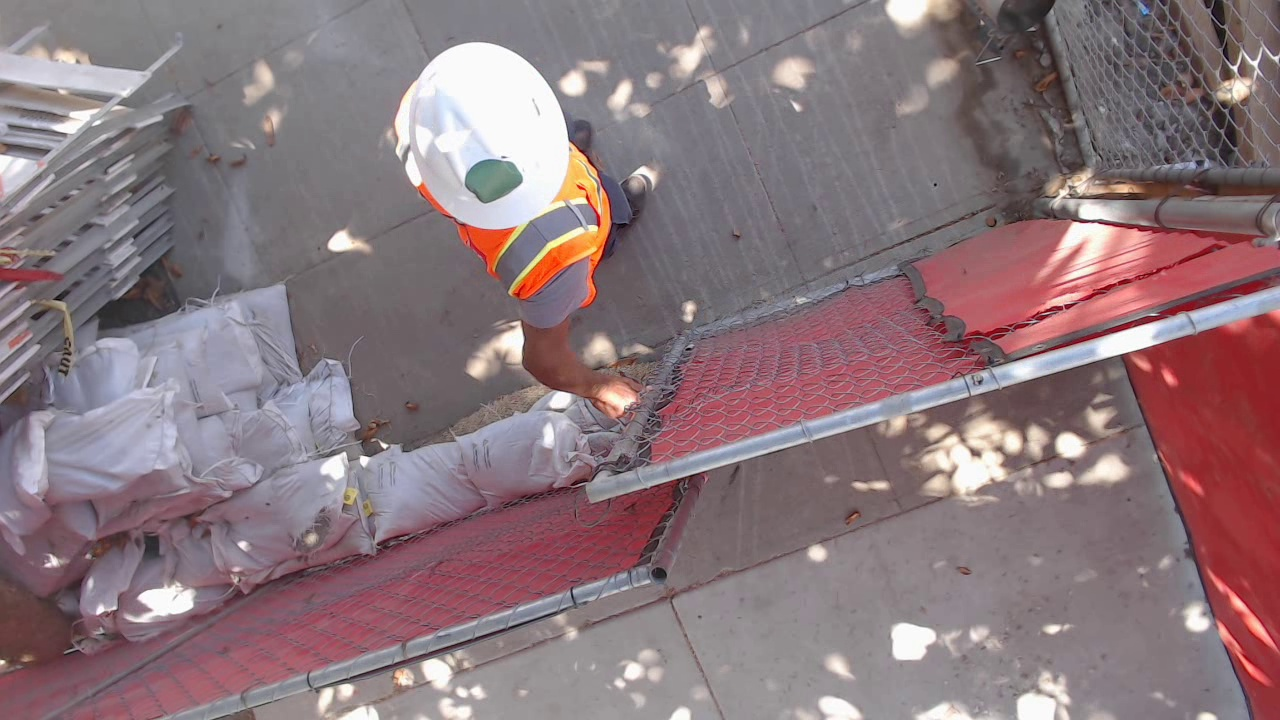green: (464, 158, 522, 202)
hardhat: (407, 43, 572, 231)
person: (396, 43, 643, 395)
safetyvest: (418, 136, 614, 312)
